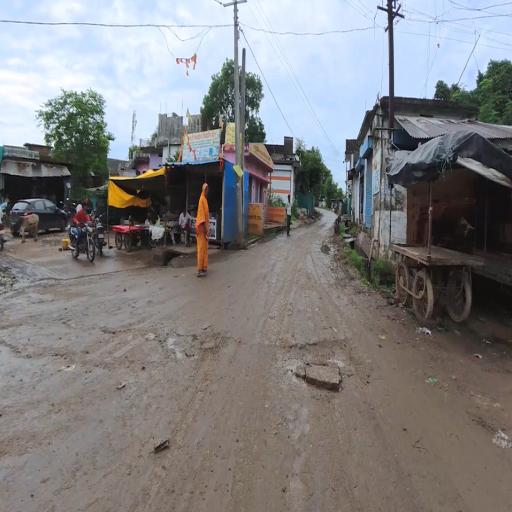ravelling: (50, 290, 240, 376), (276, 304, 359, 420)
